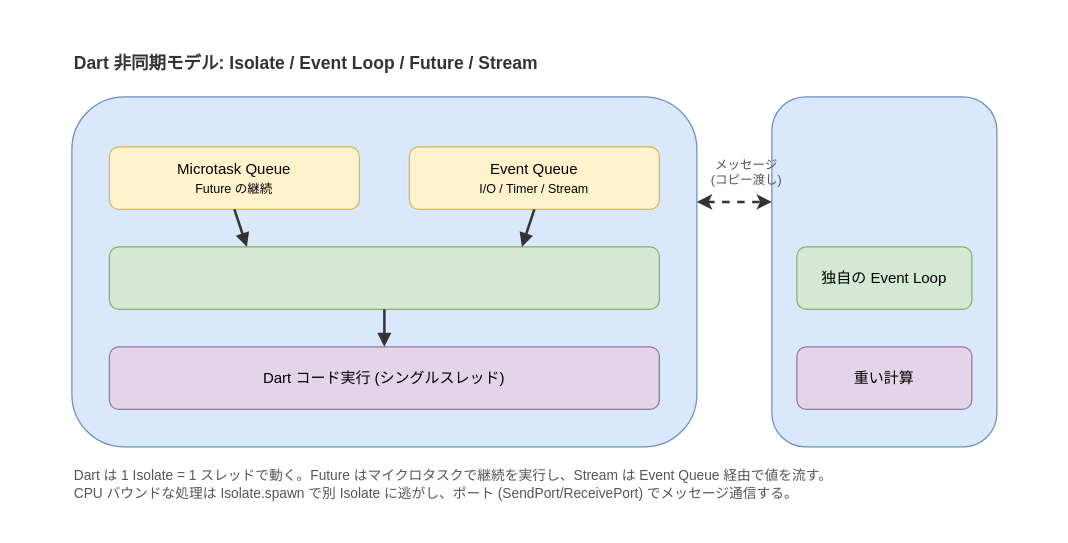
Some shapes in this 1068 by 543 pixel diagram are drawn without their labels. The box of each missing label's shape, as (x1, y1, x2, y2) in pixels:
Event Loop Microtask を優先消化 → Event を 1 件処理: (108, 246, 659, 309)
Main Isolate: (71, 96, 697, 447)
Worker Isolate 独立メモリ空間: (771, 96, 997, 447)
